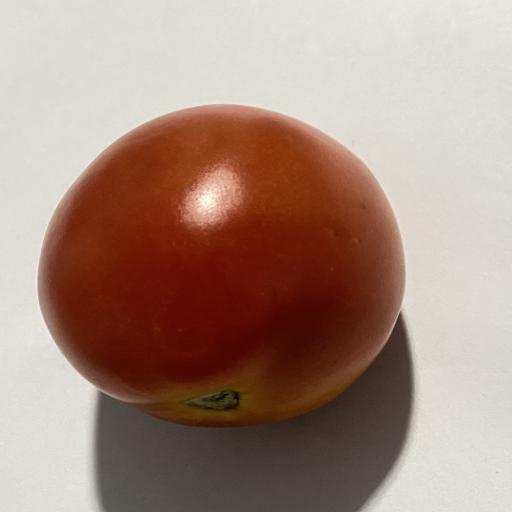ripe: (38, 105, 405, 427)
